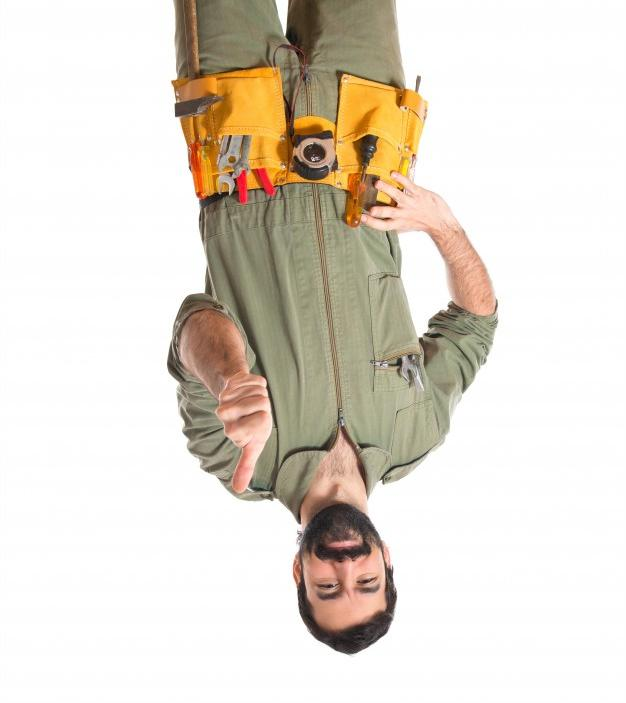thumbsdown: (215, 374, 271, 493)
